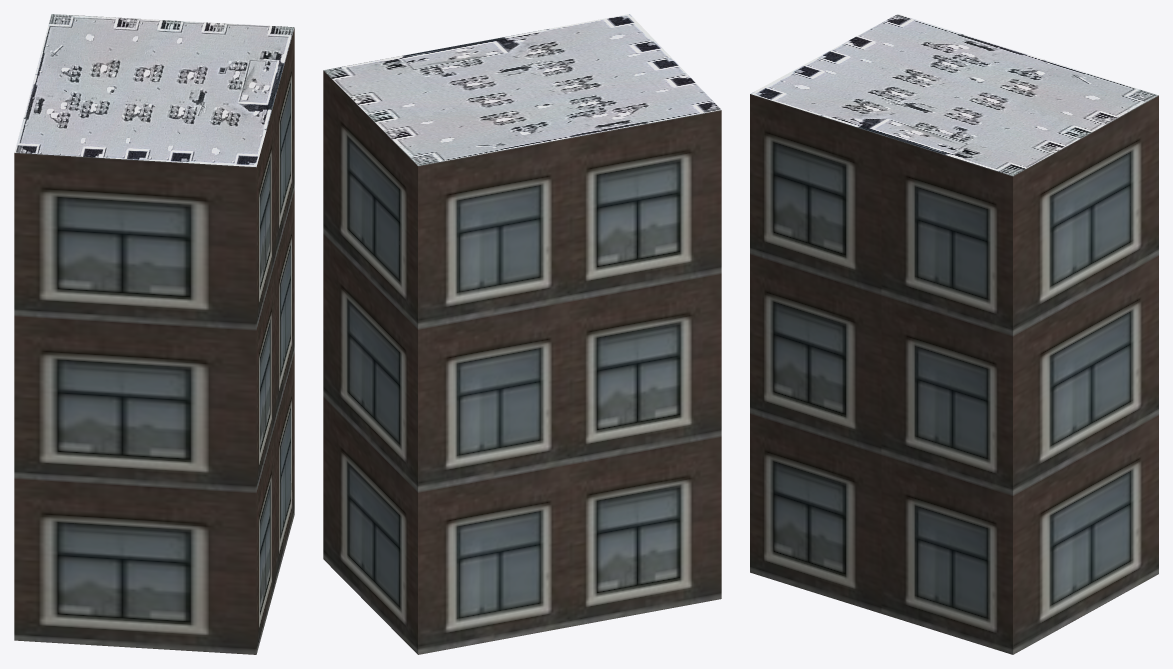
The model's file is ResTex__2971.fbx.
3 renders of one model, left to right at view 1: azimuth 30°, elevation 25°; view 2: azimuth 150°, elevation 25°; view 3: azimuth 270°, elevation 25°, orthographic. The views are drawn at different scales.
Parts seen in each view (by area): view 1: CityEngineMaterial_16_m, CityEngineMaterial_15_m; view 2: CityEngineMaterial_16_m, CityEngineMaterial_15_m; view 3: CityEngineMaterial_16_m, CityEngineMaterial_15_m.
Boxes of the visible parts, bbox=[...] form: CityEngineMaterial_16_m: bbox=[14, 28, 294, 654]; CityEngineMaterial_15_m: bbox=[14, 14, 294, 167]; CityEngineMaterial_16_m: bbox=[323, 70, 721, 654]; CityEngineMaterial_15_m: bbox=[323, 14, 721, 165]; CityEngineMaterial_16_m: bbox=[750, 94, 1158, 654]; CityEngineMaterial_15_m: bbox=[750, 14, 1158, 175].
Size of the model in its own units: 6.54 by 9 by 6.96.
Materials: 2 (2 with a texture image).
